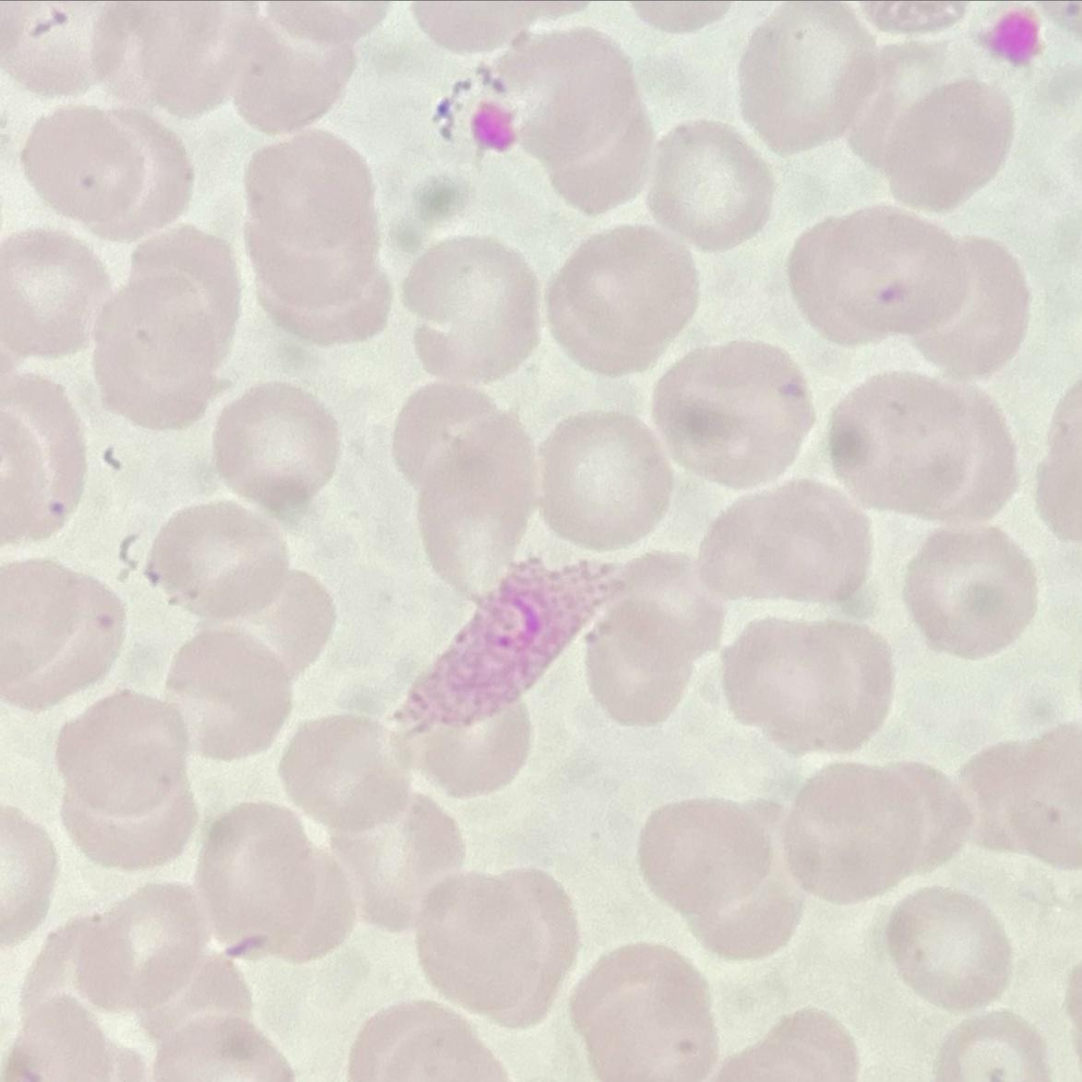Infected: (412, 548, 617, 729)
Uninfected: (241, 132, 390, 340), (90, 234, 243, 426), (493, 29, 652, 213), (393, 394, 538, 595), (825, 370, 1015, 523), (779, 759, 964, 903), (194, 800, 354, 966), (413, 869, 578, 1027), (54, 691, 199, 864), (579, 553, 723, 726), (650, 336, 812, 489), (636, 796, 796, 949), (719, 615, 894, 754), (788, 206, 970, 338), (21, 104, 189, 243), (696, 482, 872, 612), (547, 227, 699, 377), (858, 73, 1017, 215), (403, 235, 547, 385), (737, 4, 877, 153), (161, 622, 308, 763), (567, 945, 717, 1080), (142, 499, 297, 628), (535, 411, 672, 552), (222, 3, 364, 135), (91, 4, 250, 121), (71, 884, 212, 1015), (3, 559, 123, 712), (901, 526, 1036, 659), (958, 722, 1075, 875), (209, 382, 340, 517), (332, 789, 458, 925), (277, 714, 416, 836), (916, 229, 1029, 379), (647, 121, 772, 248), (885, 886, 1011, 1009), (3, 372, 89, 545), (2, 225, 108, 357), (413, 700, 529, 799), (22, 917, 117, 1033), (234, 569, 335, 678), (930, 1011, 1047, 1079)
